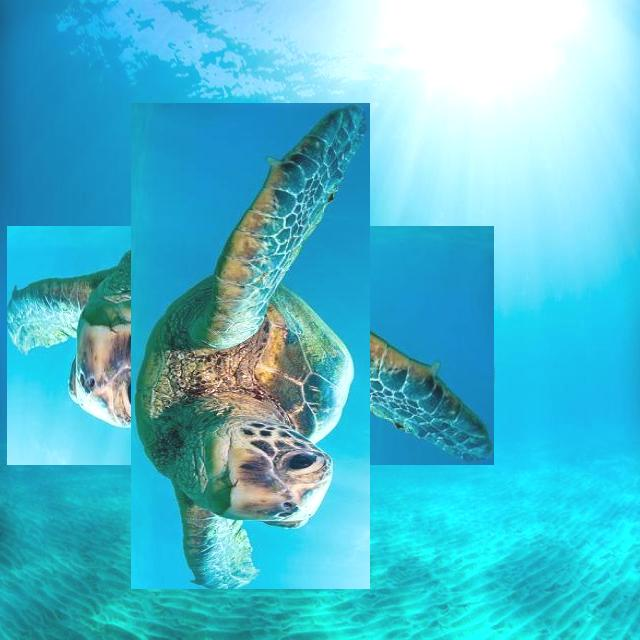Sea turtle: (69, 164, 432, 527)
